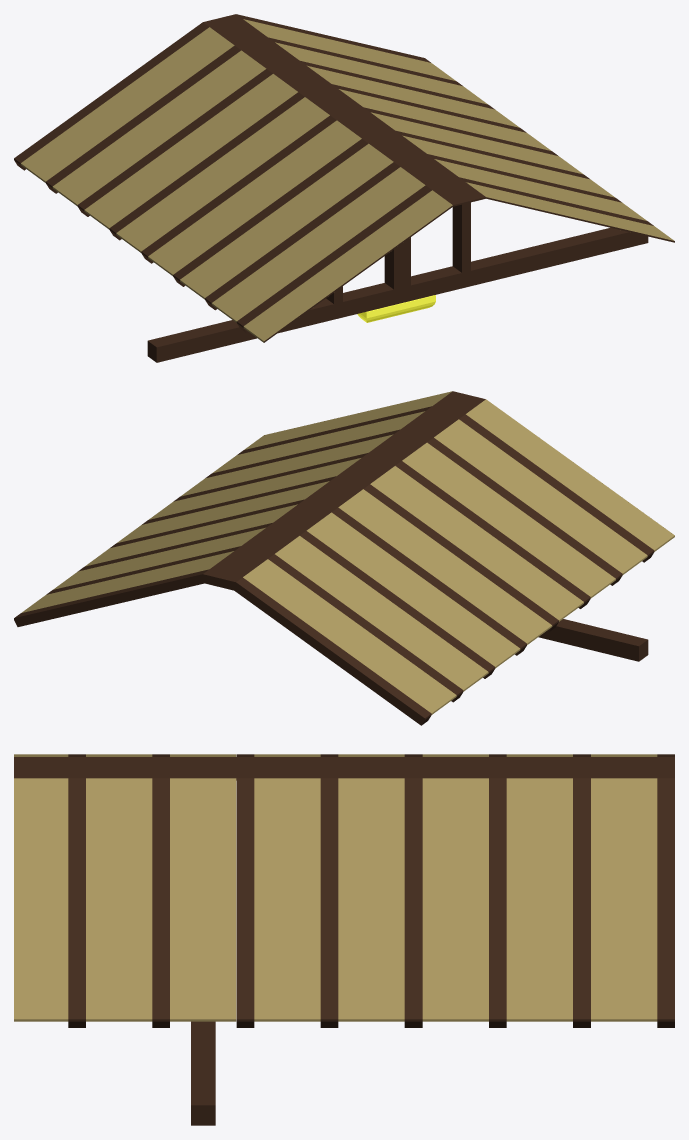
Rendered from roof_3.glb.
The picture shows the model from 3 angles, top to bottom: view 1: azimuth 30°, elevation 25°; view 2: azimuth 150°, elevation 25°; view 3: azimuth 270°, elevation 25°; orthographic projection. The views are drawn at different scales.
Visible parts, largest first — view 1: Cube.003; view 2: Cube.003; view 3: Cube.003.
Boxes of the visible parts, bbox=[...] form: Cube.003: bbox=[14, 14, 674, 362]; Cube.003: bbox=[14, 391, 674, 725]; Cube.003: bbox=[14, 754, 674, 1125].
Size of the model in its own units: 6.9 by 2.23 by 6.08.
